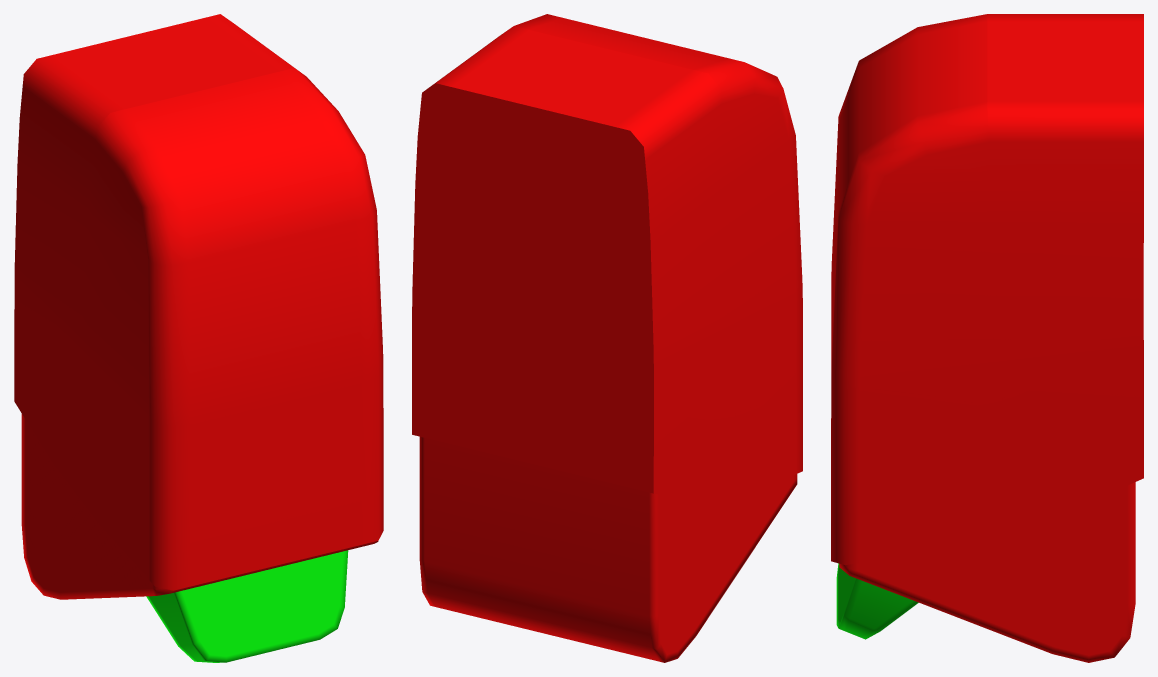
Rendered from Soap Dispensor.FBX.
The picture shows the model from 3 angles, left to right: view 1: azimuth 30°, elevation 25°; view 2: azimuth 150°, elevation 25°; view 3: azimuth 270°, elevation 25°; orthographic projection. The views are drawn at different scales.
Parts seen in each view (by area): view 1: Soap Dispensor; view 2: Soap Dispensor; view 3: Soap Dispensor.
Boxes of the visible parts, box(x1,y1,x2,y2) form: Soap Dispensor: box(14, 14, 383, 662); Soap Dispensor: box(412, 14, 802, 662); Soap Dispensor: box(831, 14, 1143, 662).
Bounding box in the file's own units: 5.87 × 12.71 × 6.57.
